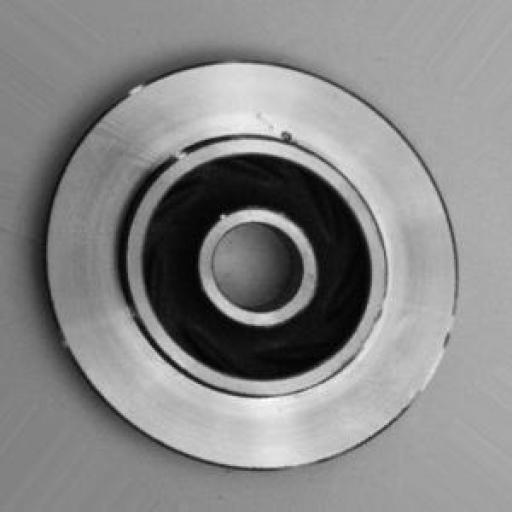defect: (235, 90, 377, 176)
